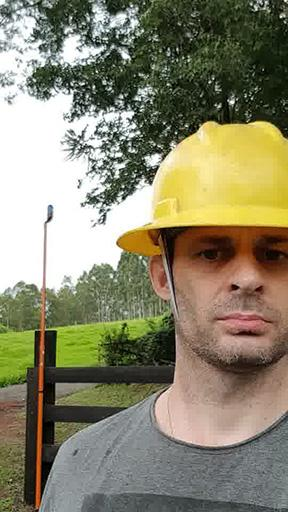Vara_Manobra: (35, 224, 50, 512)
